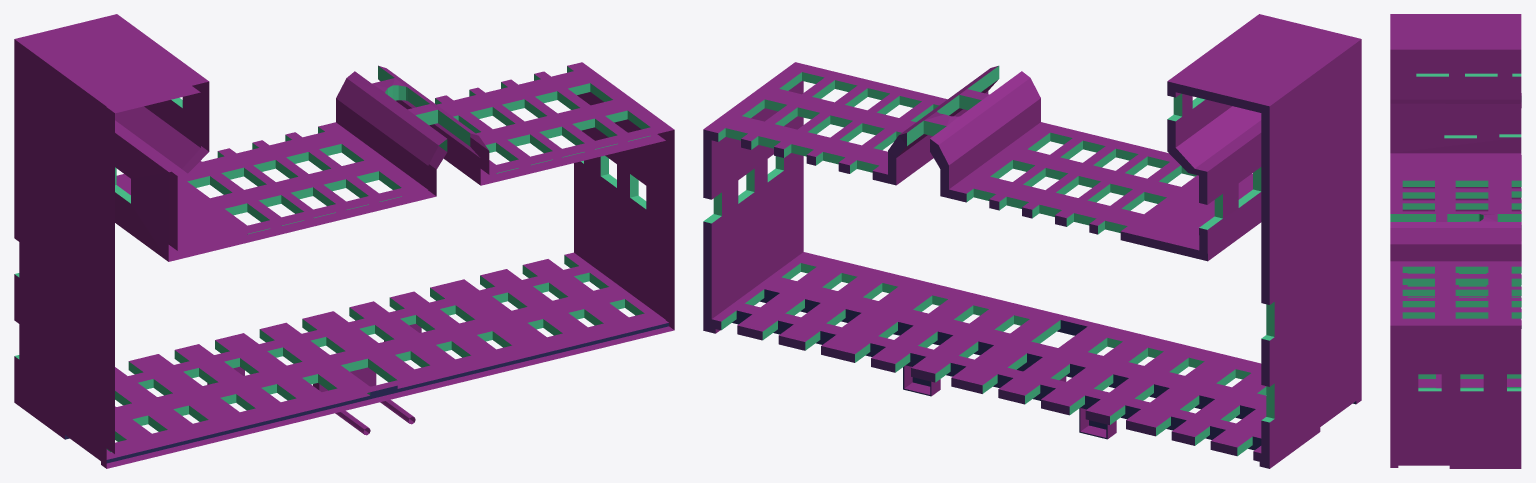
File: Stowarzyszenie Kupców Tier 2.fbx
3 renders of one model, left to right at view 1: azimuth 30°, elevation 25°; view 2: azimuth 150°, elevation 25°; view 3: azimuth 270°, elevation 25°, orthographic. The views are drawn at different scales.
Visible parts, largest first — view 1: Stowarzyszenie Kupców; view 2: Stowarzyszenie Kupców; view 3: Stowarzyszenie Kupców.
Part boxes in pixels (x1,y1,x2,y2): Stowarzyszenie Kupców: (14, 14, 674, 468); Stowarzyszenie Kupców: (703, 14, 1361, 468); Stowarzyszenie Kupców: (1390, 14, 1521, 468).
Size of the model in its own units: 4.1 by 2.72 by 1.16.
